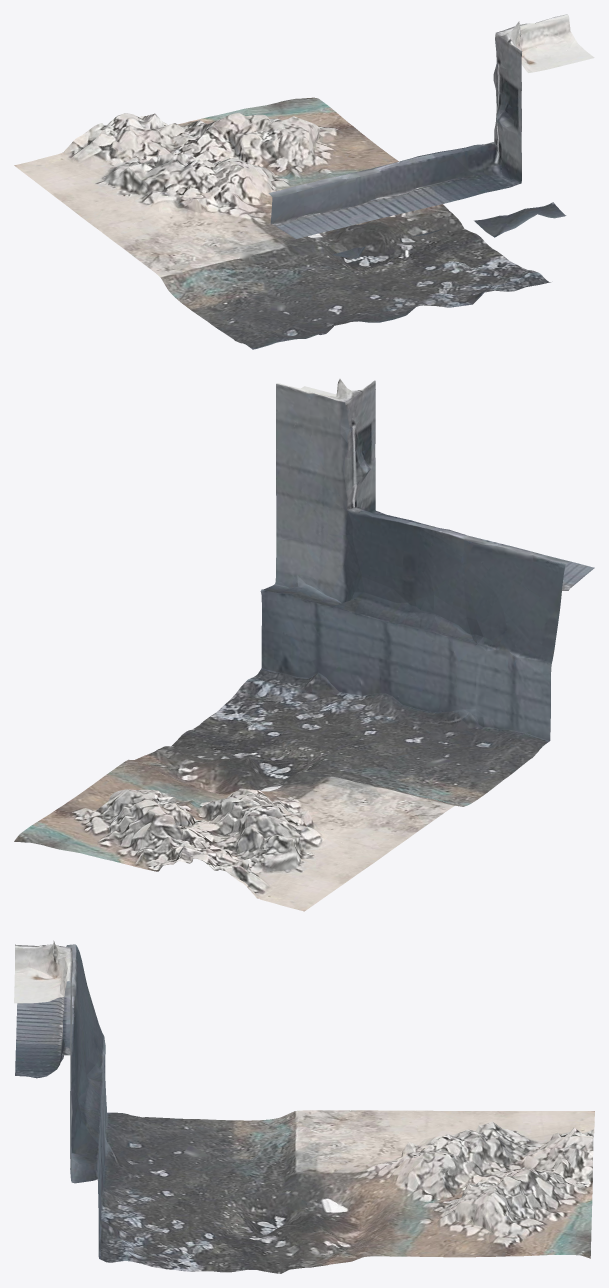
Rendered from Tile_+003_+007_L21_0uuuu10.glb.
The picture shows the model from 3 angles, top to bottom: view 1: azimuth 30°, elevation 25°; view 2: azimuth 150°, elevation 25°; view 3: azimuth 270°, elevation 25°; orthographic projection.
Visible parts, largest first — view 1: rtc; view 2: rtc; view 3: rtc.
Part boxes in pixels (x1,y1,x2,y2): rtc: (14,14,594,349); rtc: (14,379,594,911); rtc: (14,940,594,1273).
Bounding box in the file's own units: 15.49 × 15.1 × 25.73.
Materials: 1 (1 with a texture image).
